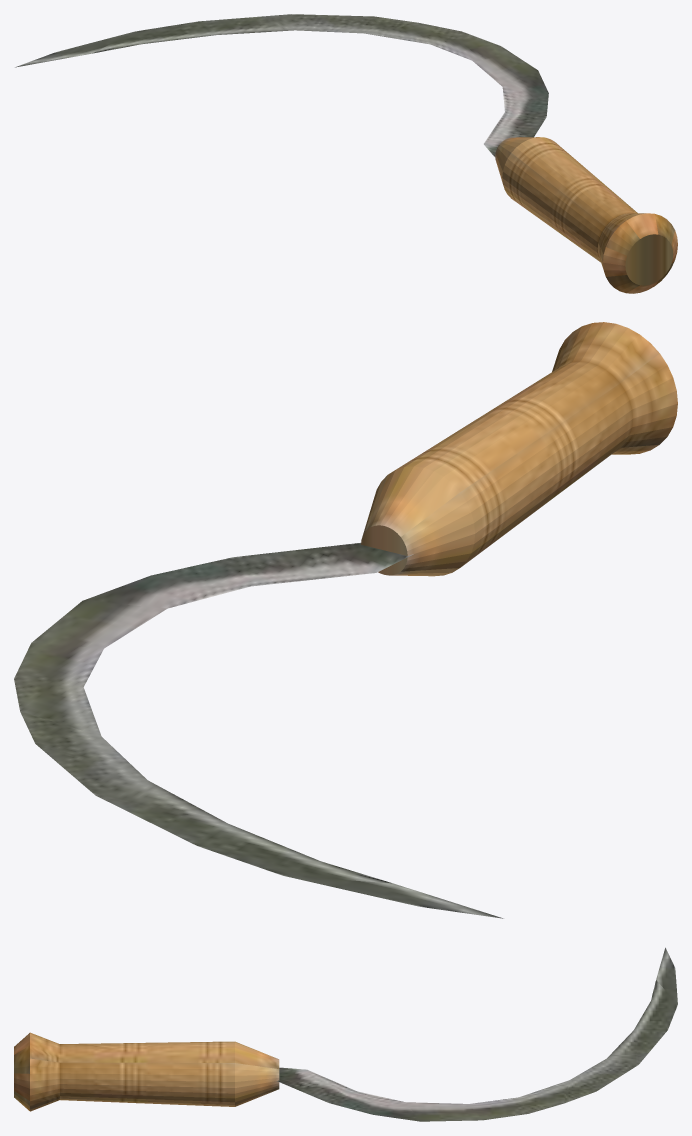
The model's file is Sickle.fbx.
The picture shows the model from 3 angles, top to bottom: view 1: azimuth 30°, elevation 25°; view 2: azimuth 150°, elevation 25°; view 3: azimuth 270°, elevation 25°; orthographic projection. The views are drawn at different scales.
Visible parts, largest first — view 1: Sickle; view 2: Sickle; view 3: Sickle.
Part boxes in pixels (<box>): Sickle: <box>15,14,677,293</box>; Sickle: <box>14,322,677,918</box>; Sickle: <box>14,947,677,1121</box>.
Bounding box in the file's own units: 60.35 × 11.59 × 97.12.
